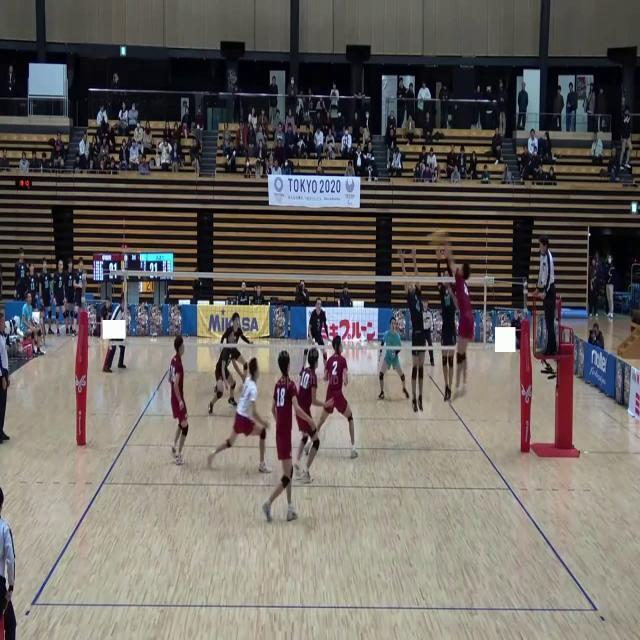volleyball: (425, 230, 449, 250)
